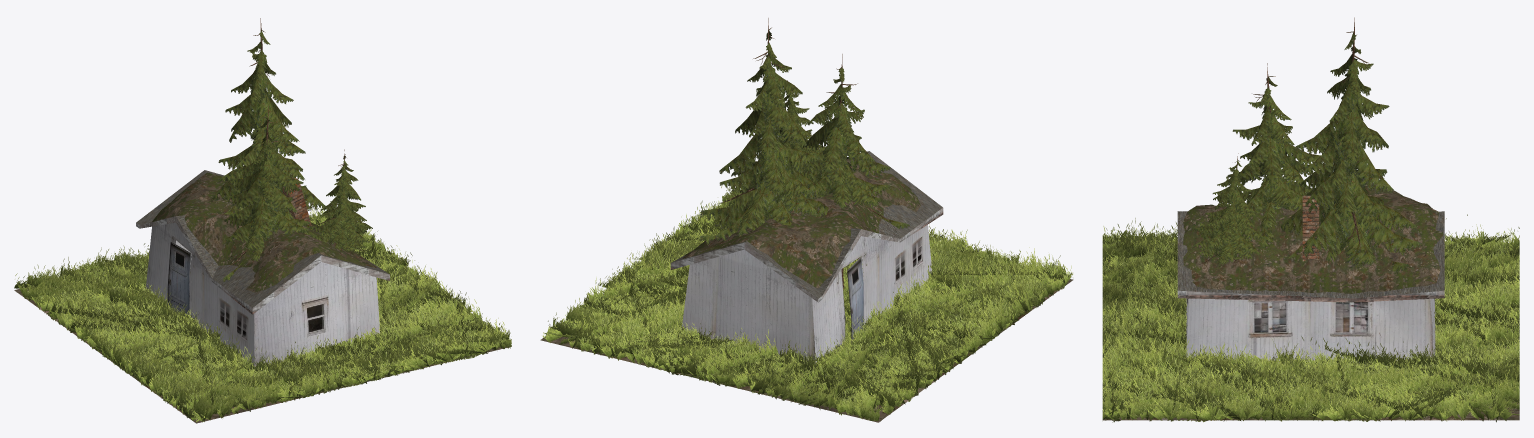
File: abandoned_house.glb
The picture shows the model from 3 angles, left to right: view 1: azimuth 30°, elevation 25°; view 2: azimuth 150°, elevation 25°; view 3: azimuth 270°, elevation 25°; orthographic projection. The views are drawn at different scales.
Visible parts, largest first — view 1: object 2, object 4, leaf_tree_leaf_0, object 1, object 7, object 6, object 5; view 2: object 2, leaf_tree_leaf_0, object 4, object 1, object 7, object 6; view 3: object 2, leaf_tree_leaf_0, object 1, object 4, object 7, object 6, object 5.
Boxes of the visible parts, bbox=[...] form: object 2: bbox=[14, 207, 511, 422]; object 4: bbox=[145, 222, 379, 366]; leaf_tree_leaf_0: bbox=[211, 18, 372, 298]; object 1: bbox=[14, 172, 509, 423]; object 7: bbox=[136, 170, 388, 307]; object 6: bbox=[136, 216, 389, 314]; object 5: bbox=[282, 177, 311, 225]; object 2: bbox=[542, 183, 1072, 421]; leaf_tree_leaf_0: bbox=[699, 18, 909, 290]; object 4: bbox=[681, 224, 931, 363]; object 1: bbox=[540, 157, 1073, 422]; object 7: bbox=[671, 151, 942, 298]; object 6: bbox=[670, 208, 943, 302]; object 2: bbox=[1102, 214, 1519, 422]; leaf_tree_leaf_0: bbox=[1192, 17, 1422, 335]; object 1: bbox=[1103, 182, 1519, 420]; object 4: bbox=[1186, 298, 1435, 362]; object 7: bbox=[1177, 178, 1444, 298]; object 6: bbox=[1177, 290, 1444, 302]; object 5: bbox=[1302, 195, 1319, 261].
Size of the model in its own units: 10.02 by 8.76 by 10.01.
7 materials, 7 textured.
